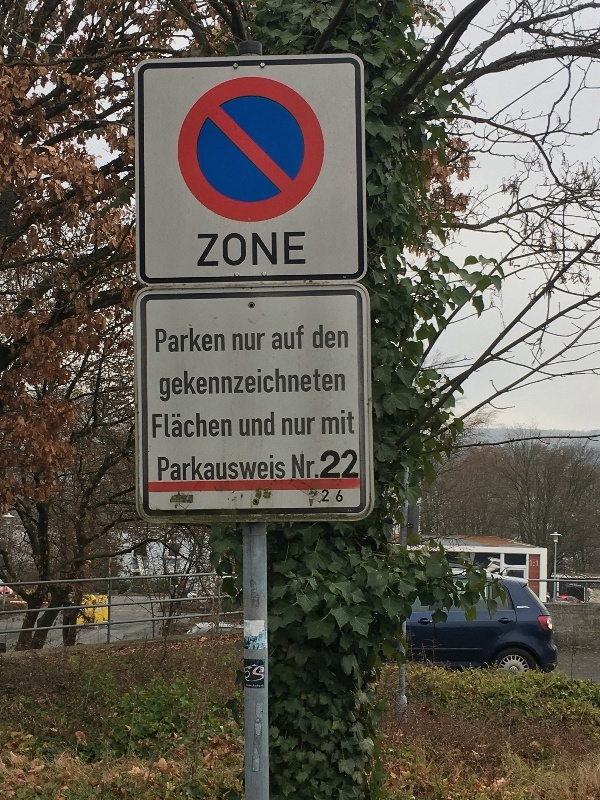text: (161, 365, 176, 404), (177, 365, 192, 404), (193, 365, 208, 404), (209, 365, 224, 404), (225, 365, 240, 404), (241, 365, 256, 404), (257, 365, 272, 404), (273, 365, 288, 404), (289, 365, 304, 404), (305, 365, 320, 404), (321, 365, 336, 404), (209, 230, 224, 268), (225, 230, 240, 268), (241, 230, 256, 268), (257, 230, 272, 268), (273, 230, 288, 268), (289, 230, 304, 268), (305, 449, 320, 480), (321, 449, 336, 480), (337, 449, 352, 480), (289, 324, 305, 352), (161, 454, 176, 483), (177, 454, 192, 483), (193, 454, 208, 483), (209, 454, 224, 483), (225, 454, 240, 483), (241, 454, 256, 483), (257, 454, 272, 483), (321, 407, 336, 436), (337, 407, 352, 436), (161, 326, 176, 354), (177, 326, 192, 354), (193, 326, 208, 354), (209, 326, 224, 354), (273, 324, 288, 352), (321, 323, 336, 351), (197, 230, 208, 268), (161, 412, 176, 439), (177, 412, 192, 439), (193, 412, 208, 439), (209, 412, 224, 439), (241, 411, 256, 438), (257, 411, 272, 438), (273, 454, 286, 483), (292, 449, 304, 480), (337, 365, 346, 404), (337, 323, 349, 351), (289, 416, 304, 437), (241, 333, 256, 353), (151, 412, 160, 439), (305, 416, 316, 437), (312, 323, 320, 351), (353, 449, 360, 480), (322, 489, 336, 504), (225, 412, 232, 439), (257, 333, 266, 353), (232, 333, 240, 353), (155, 326, 160, 354), (282, 416, 288, 437), (337, 489, 344, 504), (529, 560, 544, 567), (273, 411, 276, 438), (305, 230, 307, 268), (158, 454, 160, 483), (353, 407, 355, 436), (159, 365, 160, 404), (225, 326, 226, 354), (271, 324, 272, 352), (239, 411, 240, 438)
